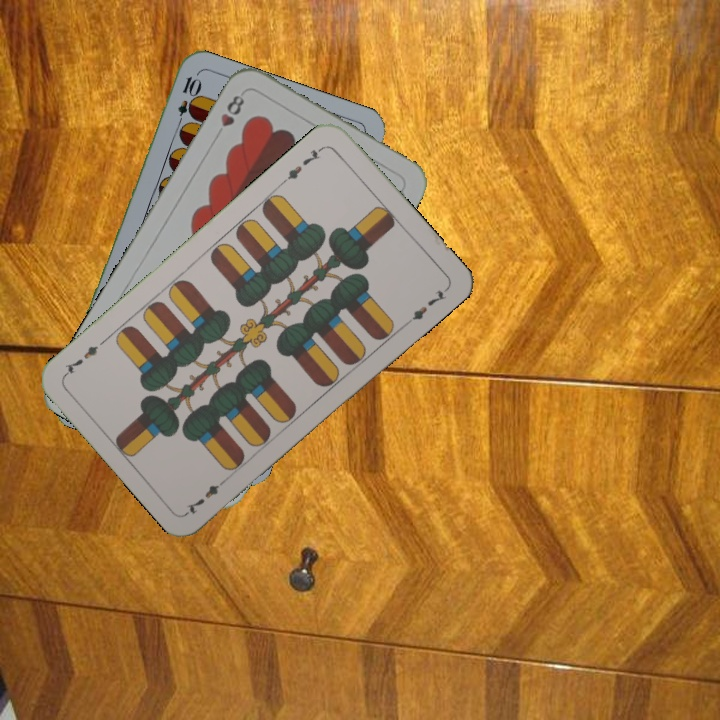E10: (172, 72, 202, 131)
E7: (182, 472, 231, 517), (278, 142, 327, 186)
H8: (211, 91, 247, 141)
